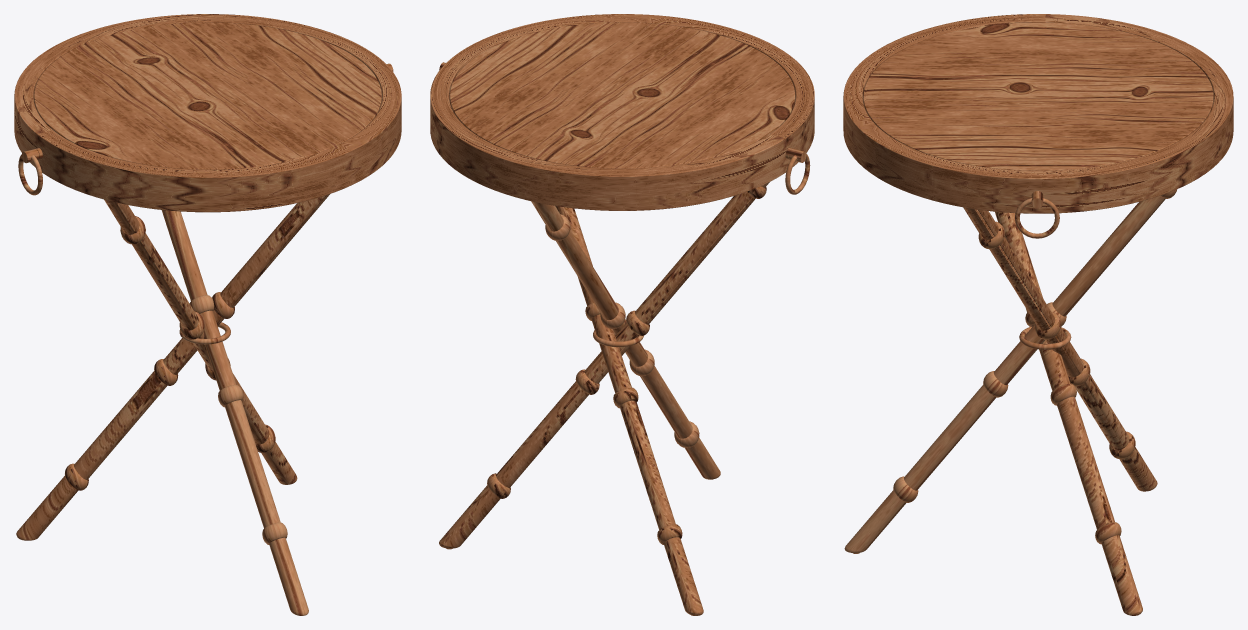
File: Table.obj
The picture shows the model from 3 angles, left to right: view 1: azimuth 30°, elevation 25°; view 2: azimuth 150°, elevation 25°; view 3: azimuth 270°, elevation 25°; orthographic projection.
Parts seen in each view (by area): view 1: Cylinder005, Torus001, Circle259; view 2: Cylinder005, Torus001, Circle259; view 3: Cylinder005, Torus001, Circle258.
Boxes of the visible parts, x1=… form: Cylinder005: x1=14, y1=14, x2=401, y2=212; Torus001: x1=16, y1=194, x2=329, y2=615; Circle259: x1=18, y1=148, x2=42, y2=195; Cylinder005: x1=430, y1=14, x2=814, y2=210; Torus001: x1=439, y1=182, x2=769, y2=615; Circle259: x1=785, y1=148, x2=810, y2=194; Cylinder005: x1=843, y1=14, x2=1233, y2=213; Torus001: x1=844, y1=189, x2=1176, y2=615; Circle258: x1=1015, y1=191, x2=1059, y2=238.
Bounding box in the file's own units: 54.39 × 64.41 × 50.
